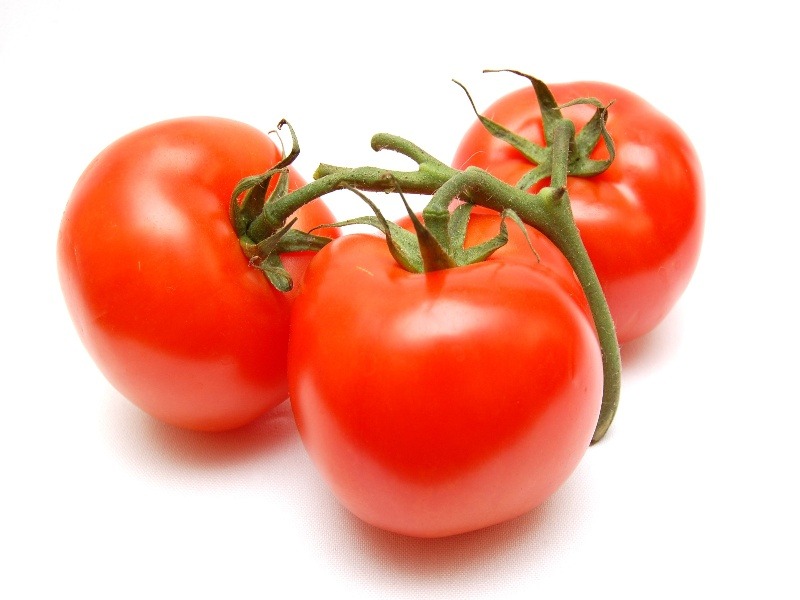Tomate: (290, 213, 605, 542), (57, 116, 344, 432), (452, 82, 706, 347)
